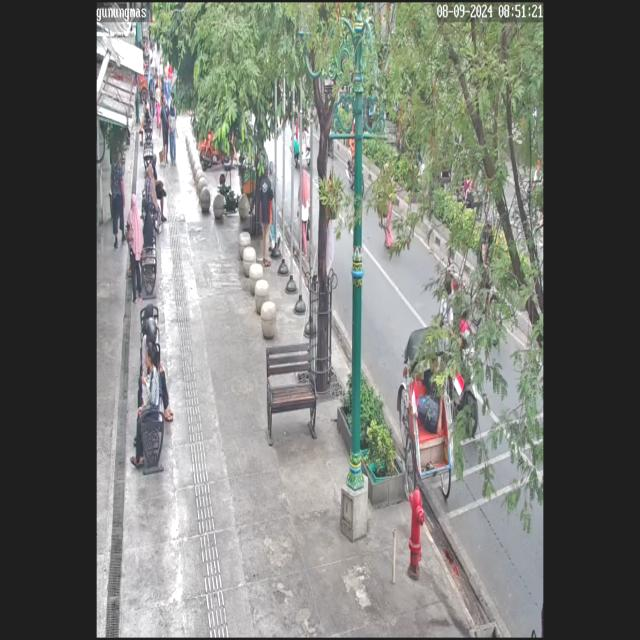Motorcycle: (466, 207, 506, 345)
